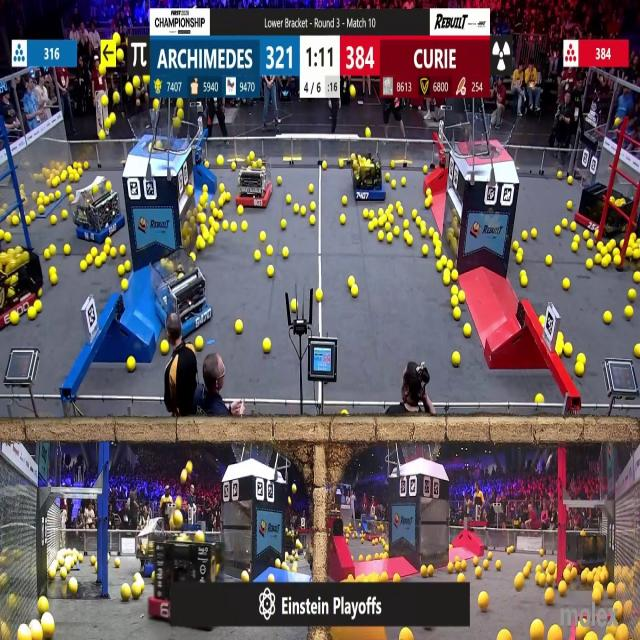ball_airborne: (346, 627, 370, 640), (173, 513, 182, 530), (112, 33, 120, 46), (118, 51, 126, 64), (180, 470, 188, 482), (133, 76, 141, 87), (142, 75, 150, 85), (100, 63, 106, 76), (113, 94, 120, 105), (127, 85, 134, 96), (176, 496, 182, 508), (177, 98, 183, 110), (110, 112, 116, 124), (186, 461, 192, 473), (152, 99, 158, 110), (104, 117, 110, 128), (100, 130, 106, 141), (102, 96, 108, 106), (291, 485, 297, 495), (178, 109, 184, 118), (174, 118, 180, 127), (616, 117, 621, 126)
ball_ground: (42, 618, 54, 640), (531, 621, 543, 640), (28, 622, 40, 640), (479, 593, 489, 612), (550, 626, 562, 640), (618, 626, 630, 640), (120, 586, 130, 602), (38, 597, 48, 613), (593, 587, 602, 604), (68, 580, 78, 595), (544, 589, 553, 605), (399, 629, 412, 640), (575, 626, 584, 640), (135, 584, 144, 598), (128, 356, 136, 371), (498, 630, 510, 640), (516, 574, 524, 589), (264, 339, 272, 353), (236, 320, 244, 334), (559, 583, 567, 597), (606, 586, 614, 600), (194, 338, 202, 351), (575, 362, 583, 375), (10, 313, 18, 326), (556, 343, 564, 356), (316, 288, 323, 302), (451, 352, 458, 366), (162, 342, 170, 354), (268, 266, 276, 278), (626, 307, 634, 319), (444, 274, 452, 286), (242, 570, 250, 582), (537, 573, 545, 585), (602, 255, 610, 267), (564, 345, 572, 357), (290, 300, 297, 313), (420, 565, 428, 576), (563, 278, 570, 290), (464, 324, 471, 336), (521, 275, 528, 287), (454, 308, 461, 320), (452, 294, 459, 306), (474, 566, 481, 578), (458, 290, 465, 302), (604, 312, 611, 324), (35, 302, 42, 314), (535, 393, 543, 403), (125, 263, 133, 273), (576, 353, 584, 363), (368, 572, 378, 580), (517, 252, 524, 263), (587, 260, 594, 271), (253, 250, 260, 261), (29, 309, 36, 320), (427, 565, 434, 576), (629, 289, 636, 300), (198, 239, 205, 250), (61, 568, 68, 579), (587, 633, 598, 640), (634, 272, 640, 284), (117, 265, 123, 277), (4, 234, 12, 243), (420, 229, 428, 238), (356, 572, 364, 581), (118, 246, 125, 256), (351, 286, 358, 296), (571, 242, 578, 252), (635, 344, 640, 358), (434, 247, 441, 257), (435, 263, 442, 273), (595, 254, 602, 264), (95, 256, 102, 266), (200, 213, 207, 223), (213, 222, 220, 232), (379, 216, 386, 226), (101, 252, 108, 262), (283, 247, 289, 258), (452, 271, 458, 282), (50, 245, 56, 256), (44, 249, 50, 260), (187, 184, 193, 195), (588, 240, 595, 249), (393, 573, 400, 582), (362, 210, 369, 219), (104, 245, 111, 254), (381, 571, 388, 580), (545, 255, 551, 265), (268, 246, 274, 256), (65, 245, 71, 255), (260, 233, 266, 243), (121, 280, 127, 290), (556, 224, 562, 234), (50, 215, 56, 225), (379, 232, 385, 242), (422, 246, 428, 256), (80, 262, 86, 272), (522, 232, 528, 242), (387, 234, 393, 244), (50, 275, 56, 285), (232, 222, 238, 232), (221, 220, 227, 230), (367, 221, 373, 231), (616, 255, 622, 265), (62, 210, 68, 220), (299, 206, 305, 216), (349, 277, 355, 287), (452, 285, 458, 295), (286, 193, 292, 203), (217, 158, 223, 168), (408, 236, 414, 246), (217, 210, 223, 220), (310, 215, 316, 225), (0, 232, 6, 242), (393, 226, 399, 236), (456, 561, 462, 571), (92, 557, 98, 567), (524, 567, 530, 577), (269, 574, 276, 582), (539, 315, 544, 326), (458, 573, 464, 582), (341, 215, 347, 224), (584, 232, 590, 241), (238, 206, 244, 215), (424, 199, 430, 208), (413, 210, 419, 219), (114, 559, 120, 568), (208, 237, 214, 246), (26, 216, 32, 225), (342, 198, 348, 207), (308, 183, 314, 192), (12, 216, 18, 225), (562, 219, 568, 228), (472, 557, 478, 566), (397, 208, 403, 217), (514, 242, 520, 251), (110, 248, 116, 257), (38, 288, 44, 297), (88, 255, 94, 264), (292, 205, 298, 214), (202, 223, 208, 232), (224, 191, 230, 200), (276, 560, 282, 569), (621, 240, 627, 249), (212, 209, 218, 218), (43, 197, 49, 206), (51, 178, 57, 187), (243, 221, 248, 231), (532, 230, 537, 240), (484, 560, 489, 570), (281, 219, 286, 229), (496, 560, 501, 570), (448, 261, 453, 271), (449, 563, 454, 573), (614, 248, 621, 255), (348, 574, 354, 582), (566, 202, 572, 210), (402, 220, 408, 228), (93, 248, 99, 256), (385, 222, 391, 230), (219, 184, 225, 192), (378, 209, 384, 217), (403, 232, 409, 240), (388, 215, 394, 223), (56, 190, 62, 198), (425, 187, 431, 195), (628, 248, 634, 256), (74, 174, 80, 182), (557, 172, 563, 180), (48, 192, 54, 200), (432, 240, 438, 248), (571, 221, 576, 230), (311, 203, 316, 212), (340, 161, 345, 170), (416, 217, 421, 226), (428, 229, 433, 238), (595, 232, 600, 241), (634, 249, 639, 258), (573, 236, 579, 243), (382, 554, 388, 561), (506, 545, 512, 552), (388, 205, 394, 212), (49, 268, 55, 275), (77, 169, 83, 176), (390, 162, 396, 169), (322, 163, 327, 171), (209, 216, 214, 224), (67, 185, 72, 193), (218, 200, 223, 208), (277, 176, 282, 184), (391, 180, 396, 188), (83, 163, 88, 171), (594, 240, 599, 248), (631, 234, 636, 242), (368, 211, 373, 219), (211, 202, 216, 210), (232, 164, 237, 172), (190, 252, 195, 260), (31, 212, 36, 220), (376, 553, 381, 561), (203, 192, 208, 200), (535, 564, 540, 572), (401, 177, 405, 186), (358, 556, 364, 562), (423, 167, 428, 174), (39, 207, 44, 214), (205, 162, 210, 169), (366, 555, 371, 562), (539, 550, 544, 557), (488, 552, 492, 560), (386, 174, 390, 182), (292, 565, 296, 573), (568, 177, 572, 184), (70, 195, 74, 202), (204, 184, 208, 191), (396, 202, 400, 209), (449, 542, 453, 548)
goal: (460, 118, 518, 158), (129, 113, 186, 152)
robot_blue: (74, 184, 124, 245), (350, 152, 385, 202), (136, 535, 160, 578)
robot_red: (146, 538, 226, 622), (154, 256, 211, 335), (0, 243, 38, 314), (236, 155, 273, 207), (564, 531, 605, 572), (578, 174, 609, 228)
